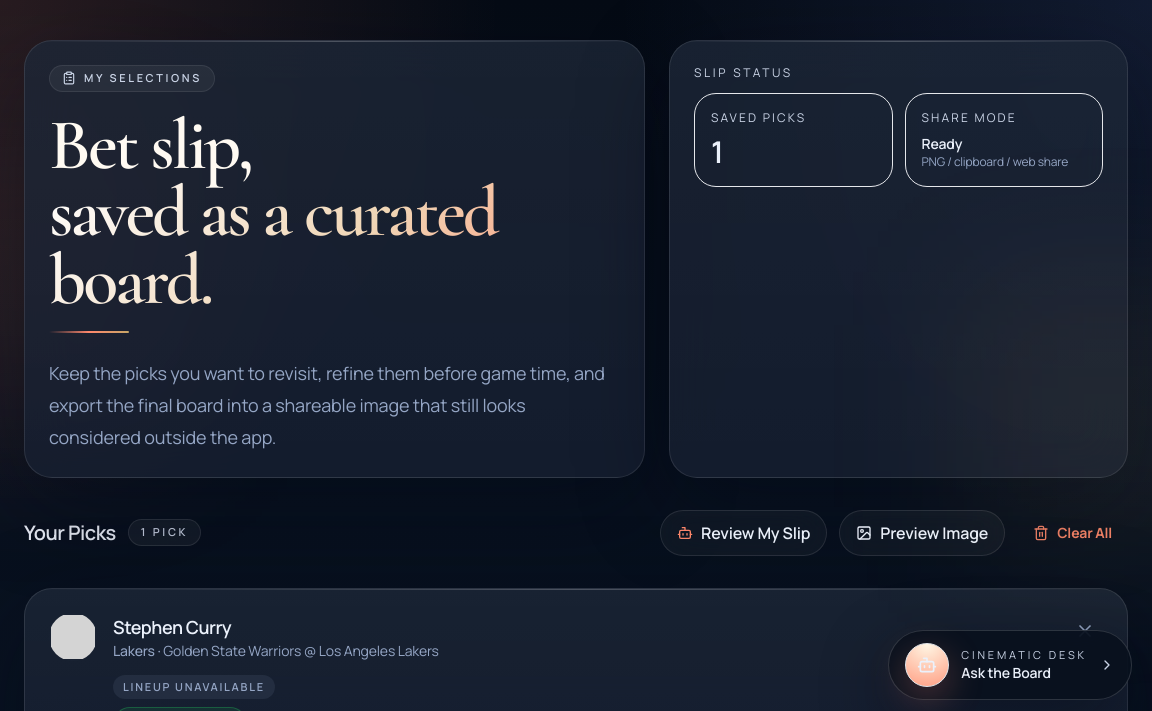
Test case: BetSlipPage › reviews the current slip through the agent widget
The width and height of the screenshot is (1152, 711).
Expected: the heading "Your Picks" is shown, [24,518,116,546]
Click the button "Review My Slip": (744, 532) [660,510,827,556]
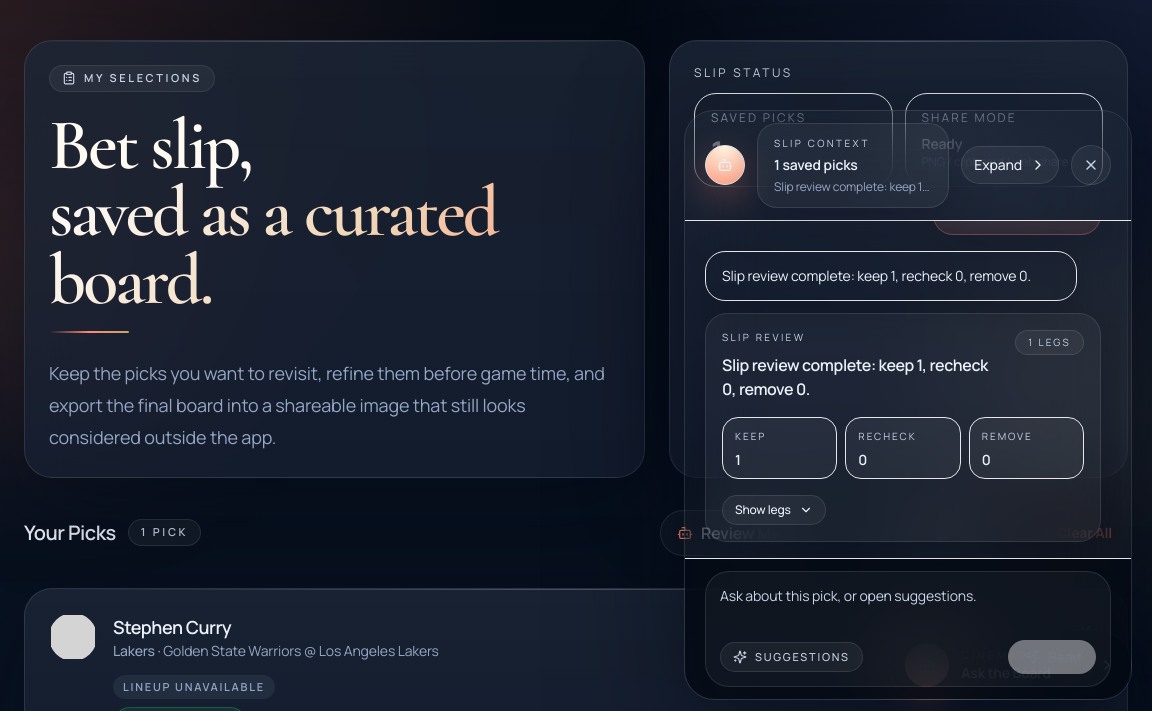
Expected: the dialog named "betting agent" is shown, [684,110,1132,700]
